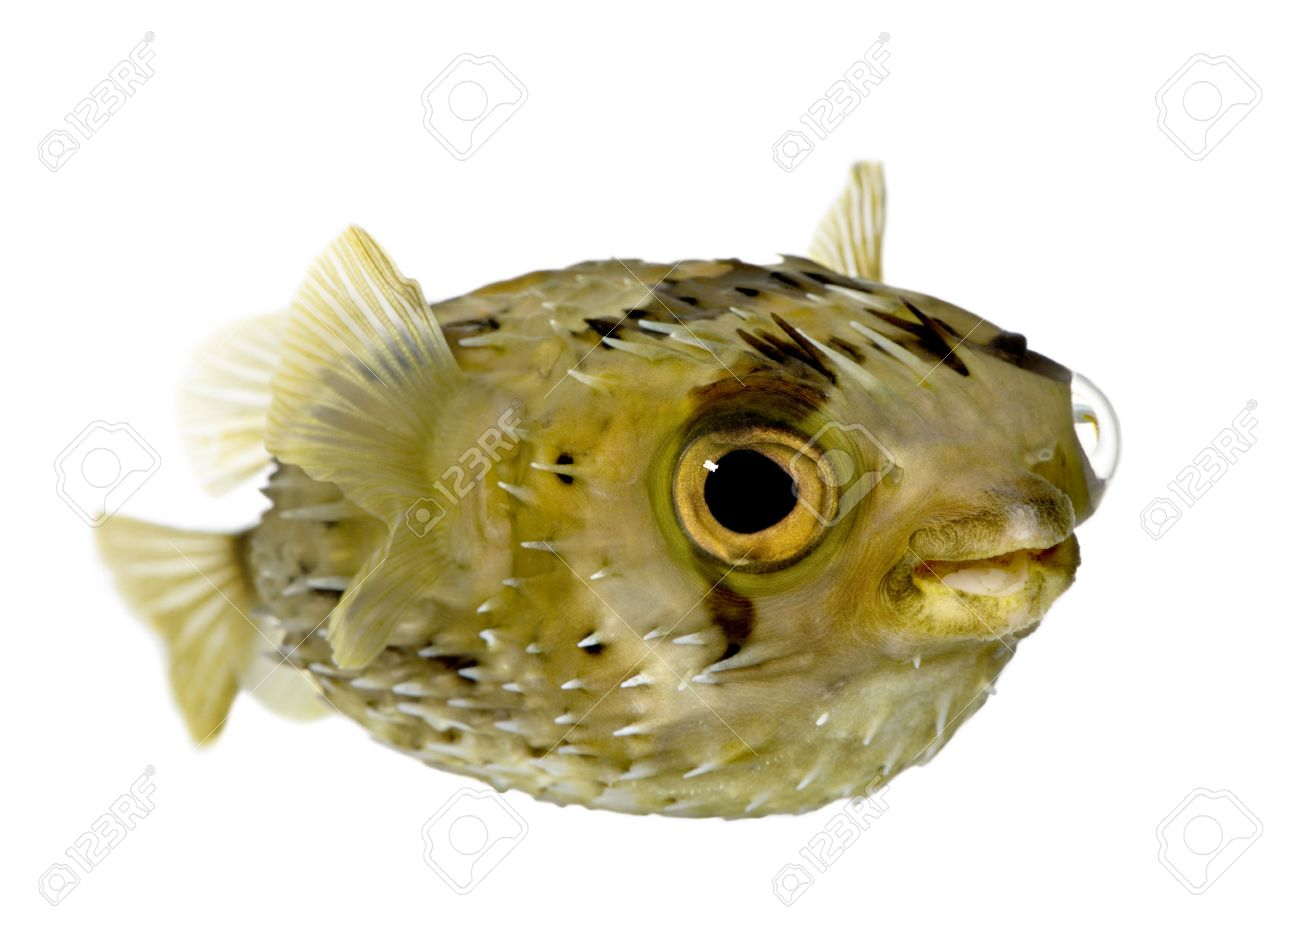Diodon_holocanthus: (57, 146, 1143, 823)
